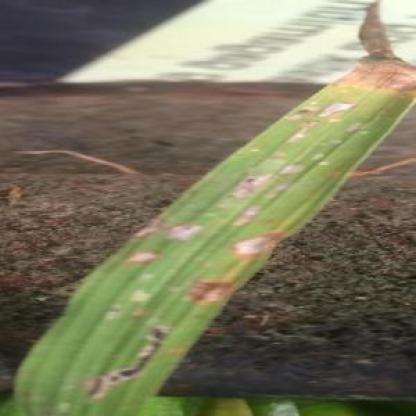Rice blast: (73, 312, 181, 416), (181, 269, 241, 316), (114, 238, 179, 273), (166, 205, 209, 246), (236, 227, 276, 262)
